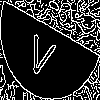V: (25, 24, 59, 80)
